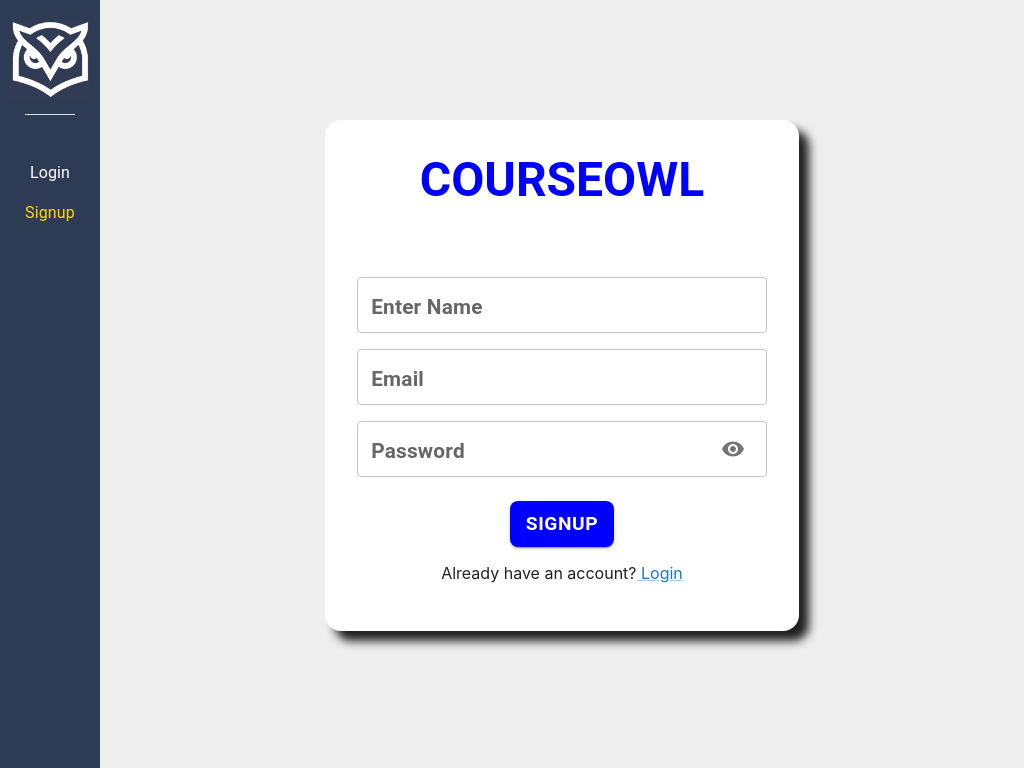
it: Signup Page › should display error message if email is empty
This screenshot has width=1024, height=768.
Type "John Doe" into the field named "name" at (562, 305), box [357,277,767,333]
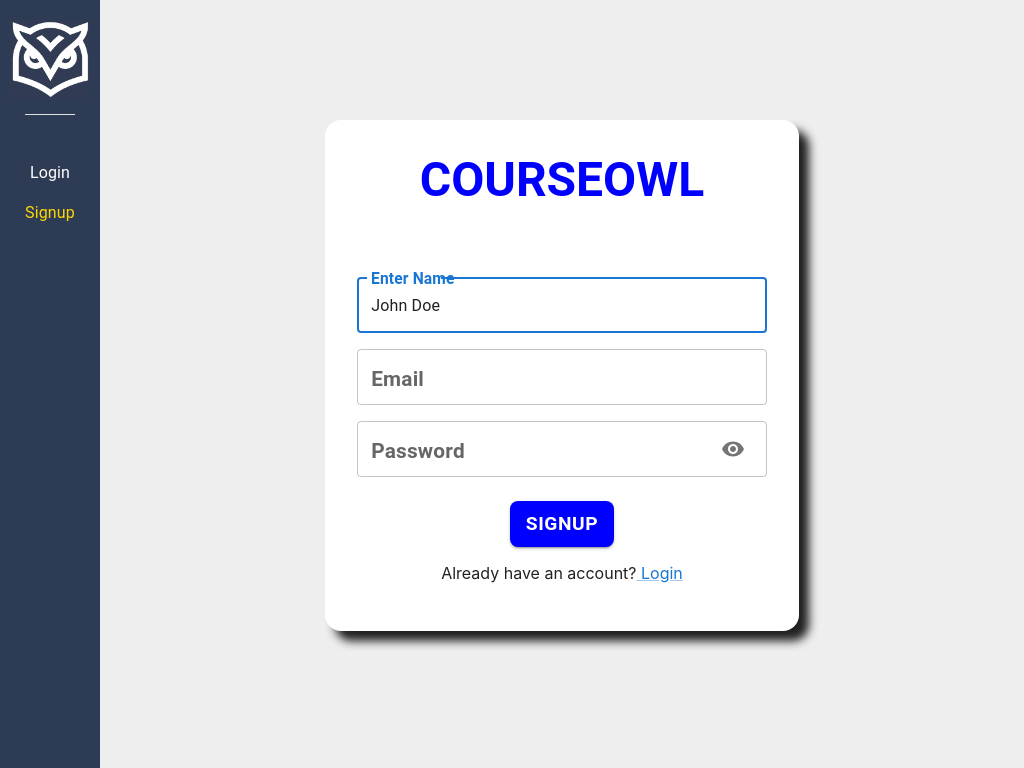
Click the button "SignUp" at (562, 524), box [510,501,614,547]
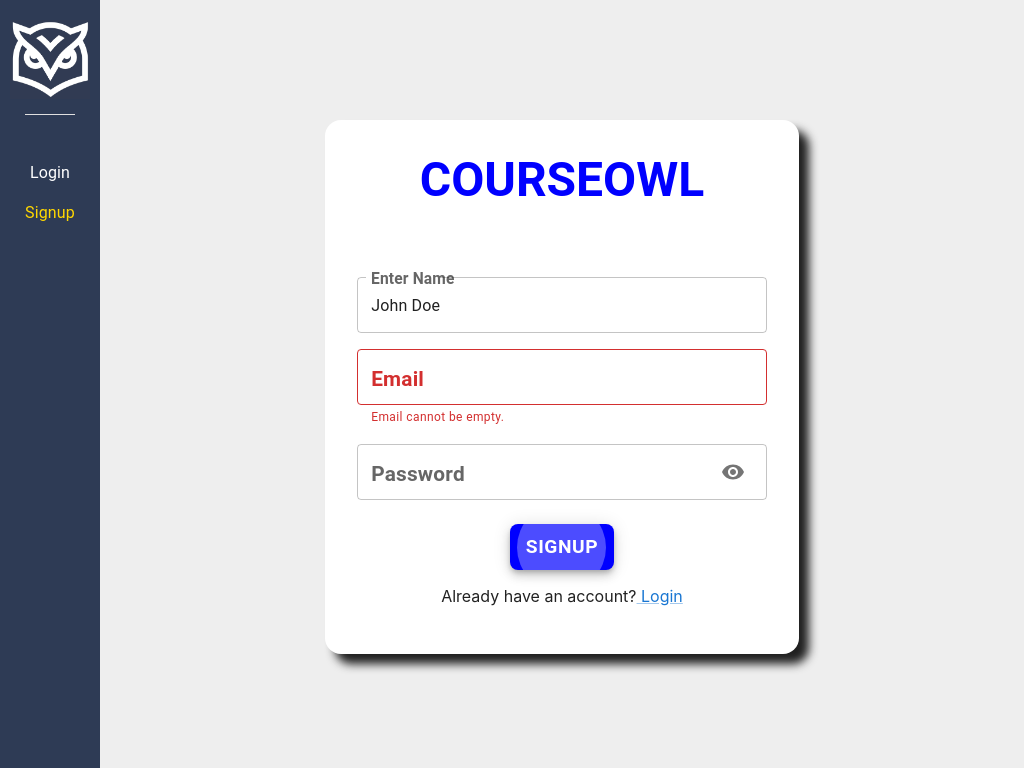
Expected: the text "Email cannot be empty" is shown, [371,410,504,424]
